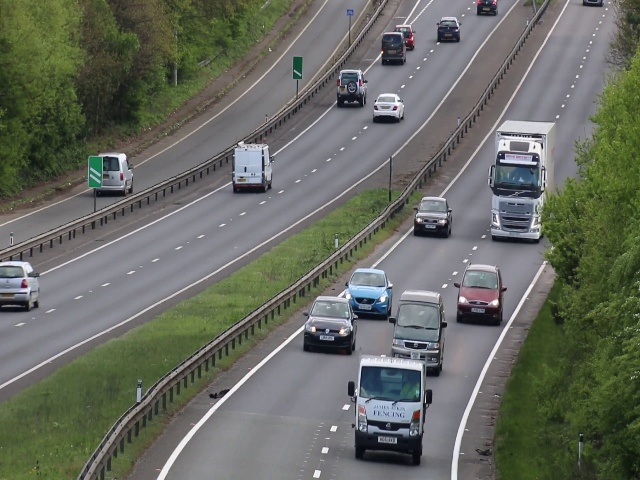car: (354, 357, 423, 467), (490, 154, 541, 243), (394, 299, 444, 373), (303, 295, 355, 357), (458, 265, 503, 324), (231, 142, 274, 193), (1, 260, 42, 313), (347, 269, 391, 317), (414, 195, 453, 239), (101, 149, 131, 196), (336, 67, 368, 109), (371, 92, 406, 122), (380, 34, 407, 66), (435, 15, 462, 41), (404, 22, 417, 49)
